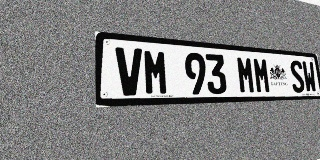3: (205, 54, 227, 94)
9: (184, 52, 208, 95)
M: (143, 49, 169, 95), (236, 56, 256, 94), (252, 57, 271, 93)
S: (289, 60, 305, 93)
V: (115, 47, 144, 96)
W: (302, 61, 317, 93)
